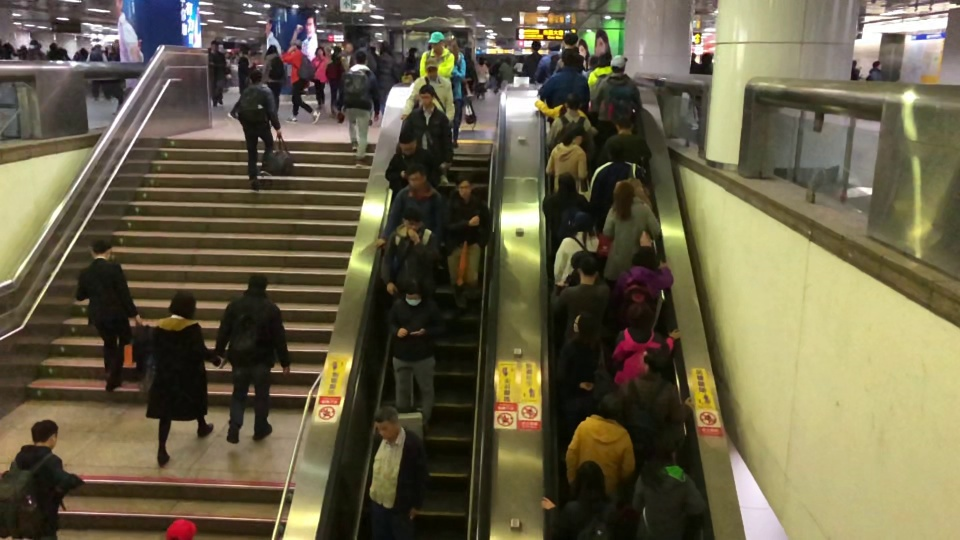person_head: (572, 460, 609, 511), (372, 405, 402, 442), (610, 181, 635, 224), (666, 432, 694, 470), (29, 419, 60, 450), (624, 301, 655, 331), (168, 290, 197, 319), (631, 244, 660, 271), (640, 345, 666, 375), (576, 254, 599, 287), (598, 391, 623, 421), (572, 309, 599, 336), (402, 275, 423, 306), (562, 122, 586, 147), (570, 212, 594, 237), (401, 206, 423, 233), (556, 171, 578, 197), (397, 129, 418, 156), (405, 163, 426, 189), (455, 173, 474, 200), (613, 115, 635, 137), (247, 274, 268, 295), (428, 30, 445, 55), (418, 83, 435, 108), (90, 240, 112, 259), (561, 46, 580, 68), (606, 141, 626, 161), (610, 53, 628, 73), (445, 38, 461, 60), (424, 57, 439, 80), (566, 92, 583, 112), (562, 33, 578, 48), (249, 68, 263, 85), (598, 52, 612, 68), (263, 44, 278, 58), (355, 50, 368, 66), (587, 55, 599, 69), (408, 46, 419, 61), (380, 42, 392, 55), (547, 42, 561, 53), (531, 39, 542, 52), (314, 46, 326, 57), (332, 45, 342, 58), (241, 46, 252, 57), (28, 39, 39, 49), (357, 37, 367, 48), (210, 40, 219, 52), (871, 62, 884, 70), (293, 39, 302, 50), (49, 41, 58, 51), (478, 54, 485, 65), (94, 42, 102, 51), (504, 56, 511, 64)
person_vbox: (146, 289, 222, 467), (215, 273, 290, 442), (601, 346, 695, 473), (0, 419, 88, 540), (75, 237, 143, 392), (364, 405, 430, 539), (563, 392, 636, 506), (633, 431, 708, 540), (387, 276, 437, 433), (440, 174, 492, 316), (597, 181, 662, 291), (399, 56, 455, 183), (540, 458, 624, 540), (603, 302, 680, 389), (231, 68, 282, 192), (373, 165, 445, 251), (589, 141, 654, 231), (378, 206, 441, 296), (542, 173, 595, 279), (610, 246, 674, 329), (555, 252, 611, 344), (591, 54, 643, 150), (402, 82, 454, 175), (341, 50, 381, 167), (556, 309, 600, 415), (538, 48, 591, 129), (553, 210, 600, 297), (544, 124, 591, 202), (384, 127, 441, 191), (279, 38, 321, 124), (544, 91, 599, 155), (599, 110, 652, 167), (444, 39, 466, 148), (228, 46, 258, 119), (262, 44, 287, 129), (376, 40, 401, 122), (325, 45, 351, 117), (419, 31, 455, 79), (587, 53, 613, 114), (551, 31, 584, 76), (207, 39, 227, 107), (86, 43, 109, 100), (532, 41, 563, 83), (534, 98, 589, 121), (310, 46, 329, 109), (349, 37, 377, 73), (521, 39, 543, 84), (399, 46, 420, 84), (473, 54, 490, 99), (497, 57, 515, 85), (584, 54, 601, 83), (25, 39, 47, 60), (45, 41, 67, 61), (865, 61, 885, 80)
